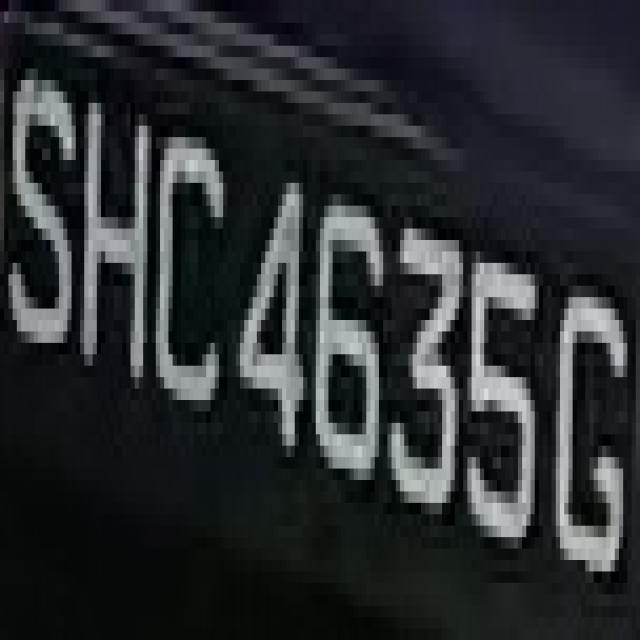3: (400, 172, 467, 514)
4: (232, 149, 312, 480)
5: (459, 206, 539, 560)
6: (308, 149, 392, 480)
C: (152, 92, 236, 434)
G: (556, 251, 636, 583)
H: (80, 57, 147, 400)
S: (4, 34, 76, 366)
